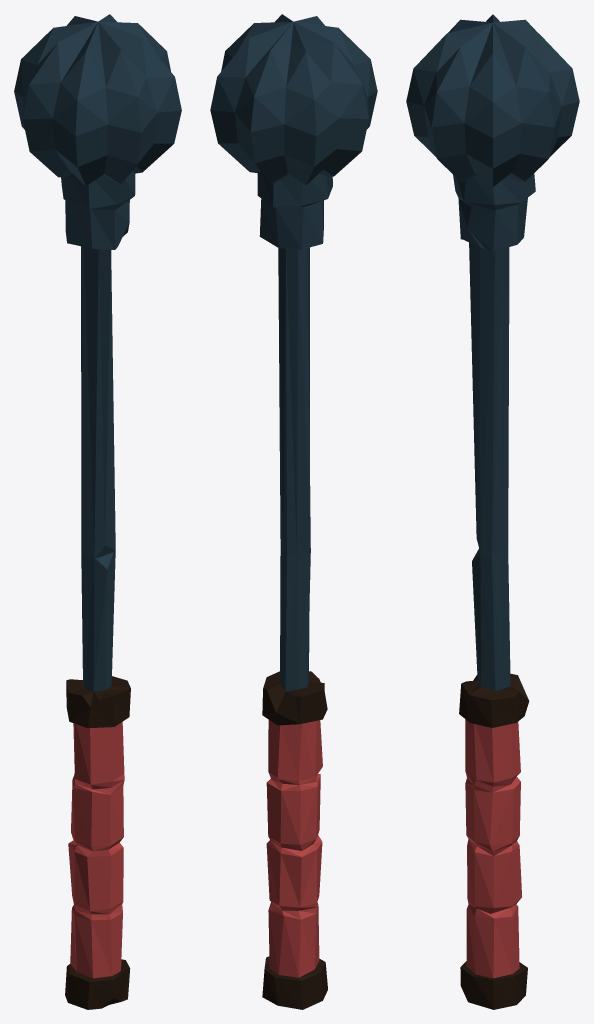
File: SFFA_Weapon_Mace_Gold_001.fbx
The picture shows the model from 3 angles, left to right: view 1: azimuth 30°, elevation 25°; view 2: azimuth 150°, elevation 25°; view 3: azimuth 270°, elevation 25°; orthographic projection.
Parts seen in each view (by area): view 1: SFFA_Weapon_Mace_Gold_001; view 2: SFFA_Weapon_Mace_Gold_001; view 3: SFFA_Weapon_Mace_Gold_001.
Boxes of the visible parts, x1,y1,x2,y2 form: SFFA_Weapon_Mace_Gold_001: [14, 14, 181, 1009]; SFFA_Weapon_Mace_Gold_001: [210, 14, 377, 1009]; SFFA_Weapon_Mace_Gold_001: [406, 14, 579, 1009].
Size of the model in its own units: 9.54 by 59.34 by 9.54.
